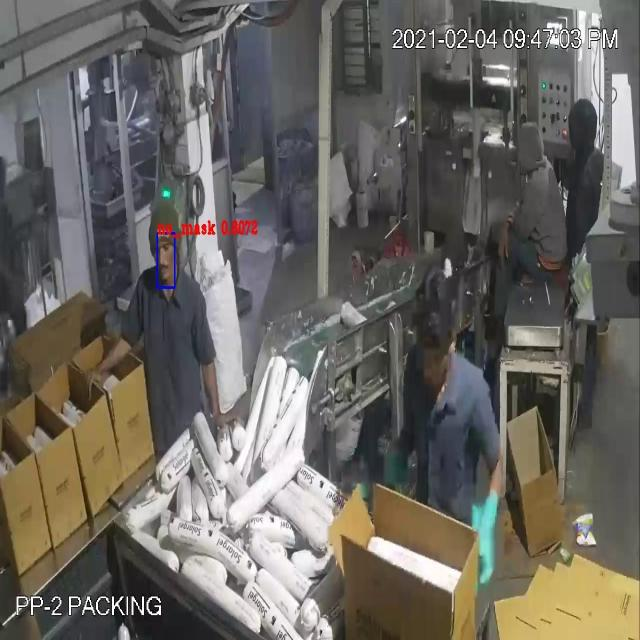gloves: (464, 466, 499, 586)
no-gloves: (76, 319, 152, 410), (196, 359, 228, 436)
